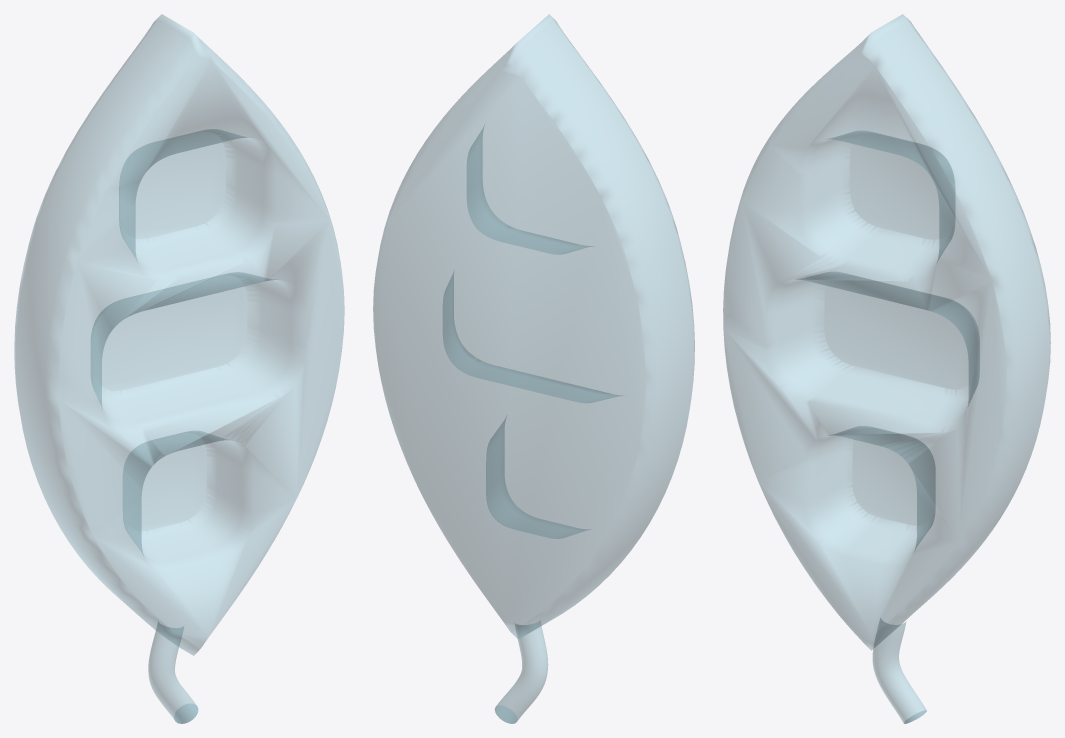
3 views of the same model, side by side, from view 1: azimuth 30°, elevation 25°; view 2: azimuth 150°, elevation 25°; view 3: azimuth 330°, elevation 25° (orthographic). The views are drawn at different scales.
Visible parts, largest first — view 1: leaf-tray-body, leaf-tray-stem; view 2: leaf-tray-body, leaf-tray-stem; view 3: leaf-tray-body, leaf-tray-stem.
Part boxes in pixels (x1,y1,x2,y2): leaf-tray-body: (14,14,344,655); leaf-tray-stem: (148,622,198,723); leaf-tray-body: (373,14,694,639); leaf-tray-stem: (494,621,547,723); leaf-tray-body: (723,14,1050,650); leaf-tray-stem: (873,618,926,723).
Bounding box in the file's own units: 1.46 × 3.33 × 0.4.
